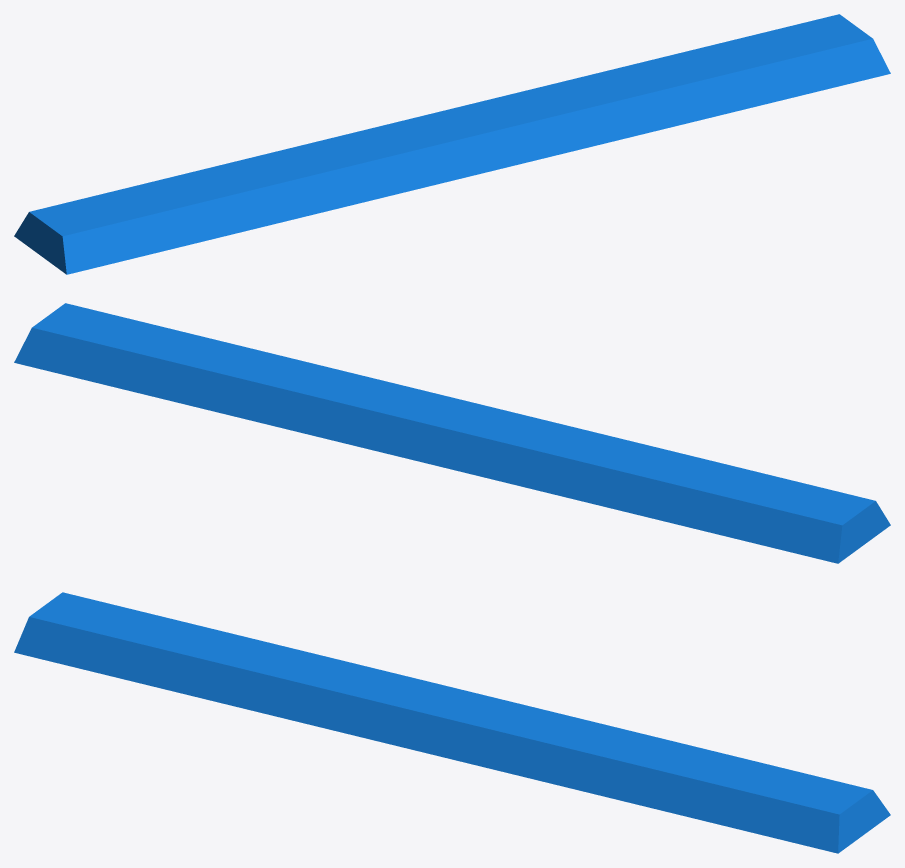
The model's file is v-belt belt alone.fbx.
3 renders of one model, top to bottom at view 1: azimuth 30°, elevation 25°; view 2: azimuth 150°, elevation 25°; view 3: azimuth 330°, elevation 25°, orthographic.
Visible parts, largest first — view 1: Belt1-4^Assem1; view 2: Belt1-4^Assem1; view 3: Belt1-4^Assem1.
Boxes of the visible parts, box(x1,y1,x2,y2) form: Belt1-4^Assem1: box(14, 14, 890, 274); Belt1-4^Assem1: box(14, 303, 890, 563); Belt1-4^Assem1: box(14, 592, 890, 853).
Size of the model in its own units: 17.12 by 0.5971 by 1.9.
